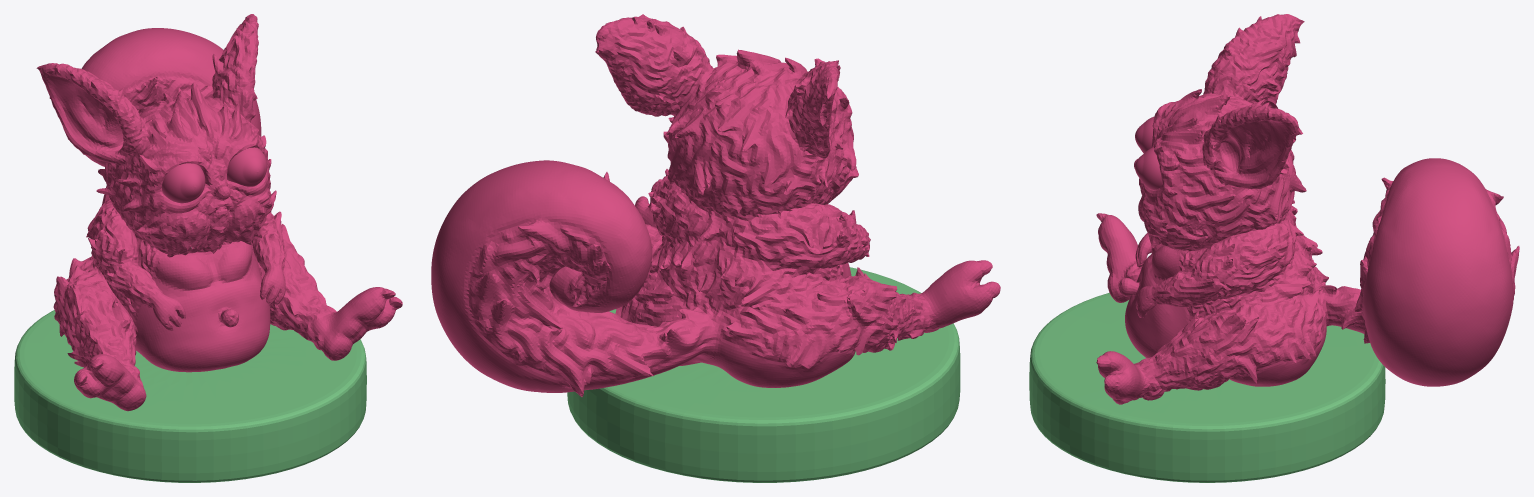
File: full_7_coarse.glb
The picture shows the model from 3 angles, left to right: view 1: azimuth 30°, elevation 25°; view 2: azimuth 150°, elevation 25°; view 3: azimuth 270°, elevation 25°; orthographic projection. The views are drawn at different scales.
Visible parts, largest first — view 1: world; view 2: world; view 3: world.
Boxes of the visible parts, x1,y1,x2,y2 form: world: (14,14,402,482); world: (431,14,1000,482); world: (1029,14,1519,482).
Bounding box in the file's own units: 0.5317 × 0.525 × 0.6646.
